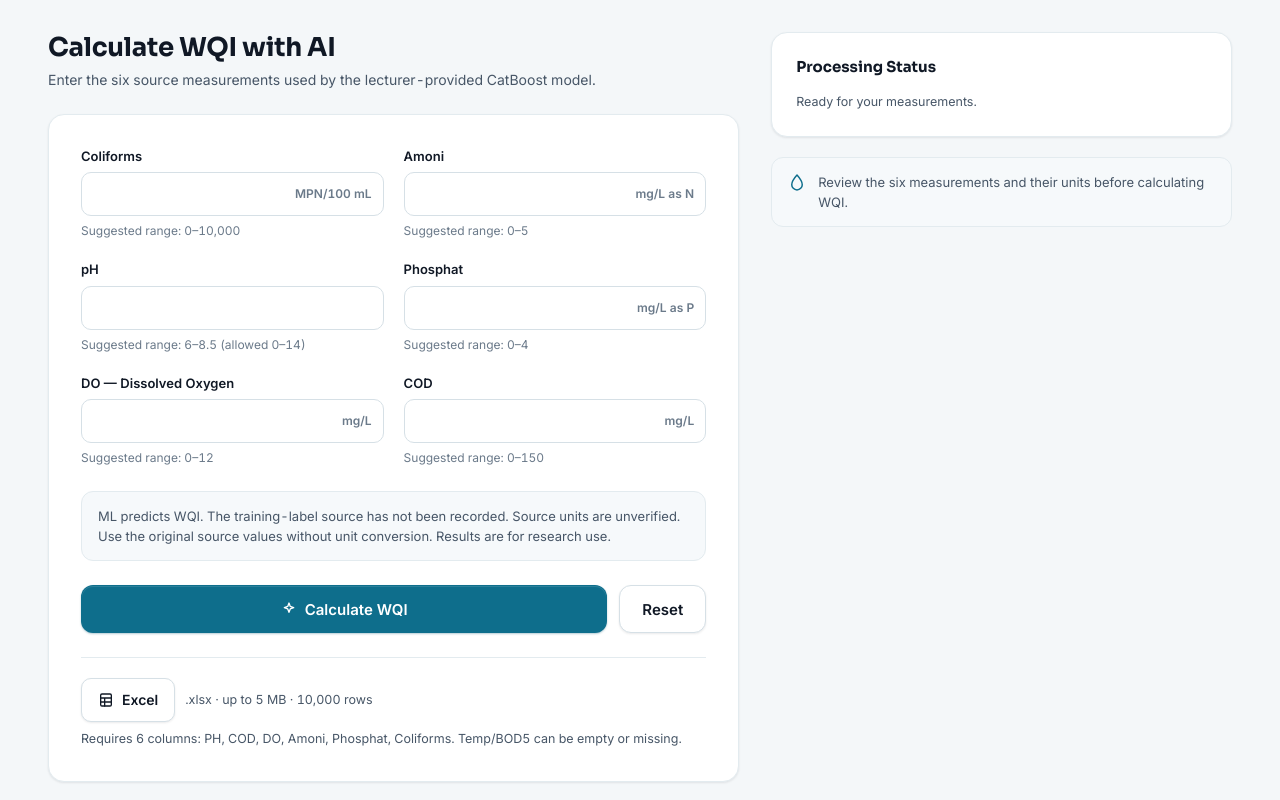
prediction screens › maps structured model-domain errors to a field and preserves the entered measurement
Expected: the button "Calculate WQI" is enabled, [81,585,607,633]
Type "7" into the number field labelled "pH" at (232, 308), box [81,286,384,330]
Type "6" into the number field labelled "DO — Dissolved Oxygen" at (232, 421), box [81,399,384,443]
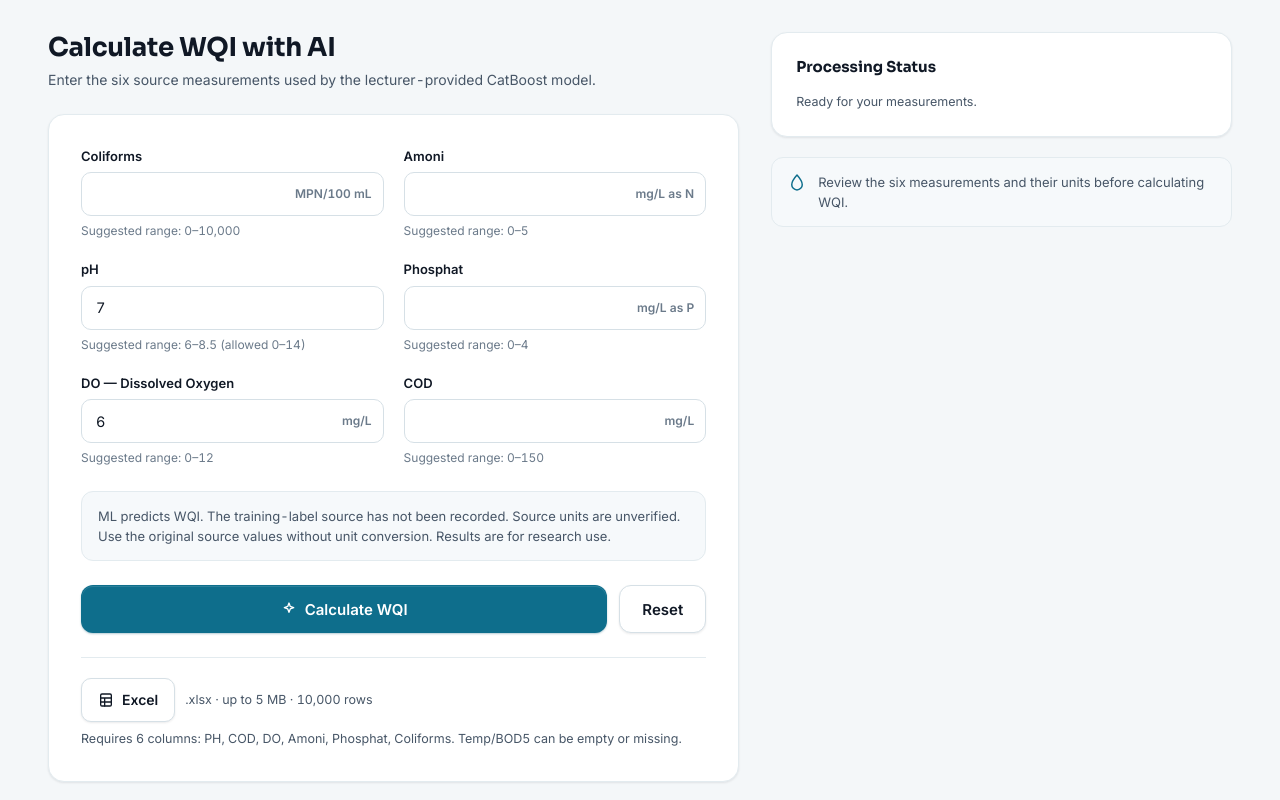
Type "4" into the number field labelled "COD" at (555, 421), box [404,399,706,443]
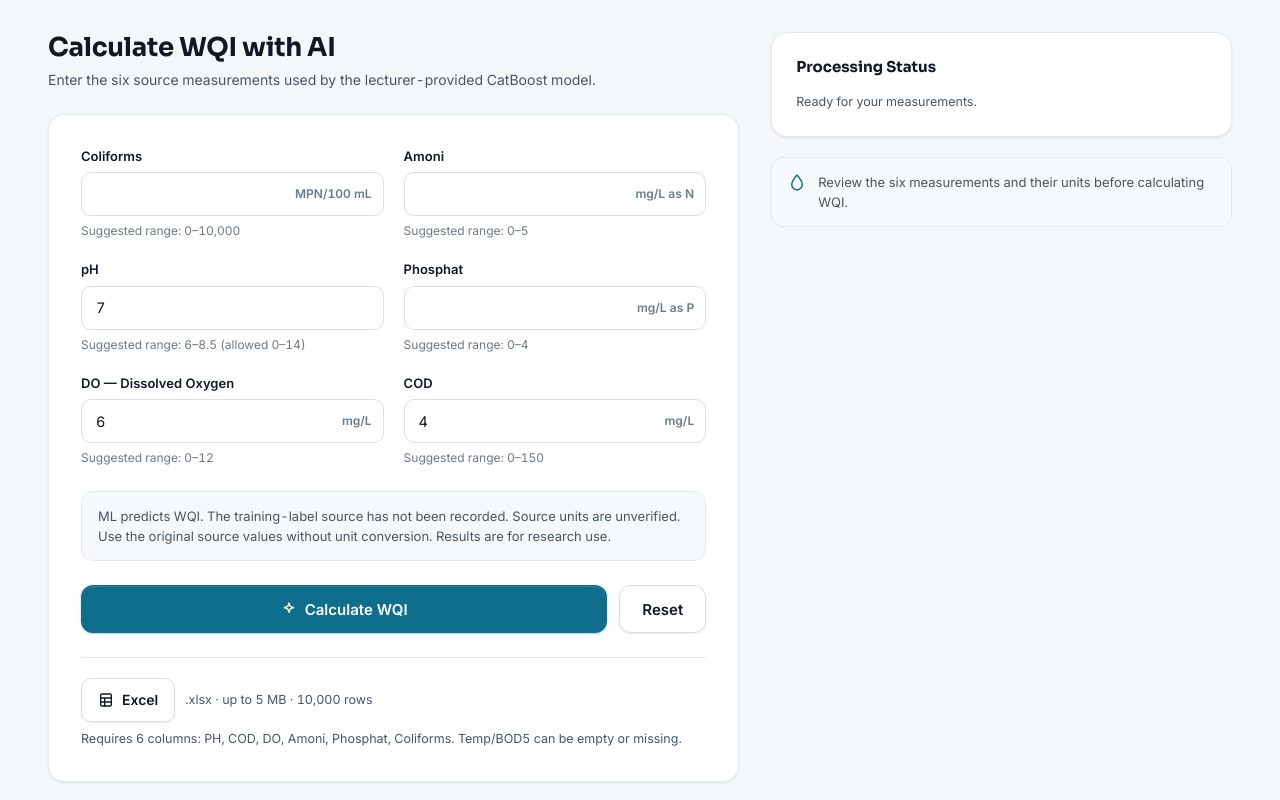
Type "2" into the number field labelled "Amoni" at (555, 194), box [404,172,706,216]
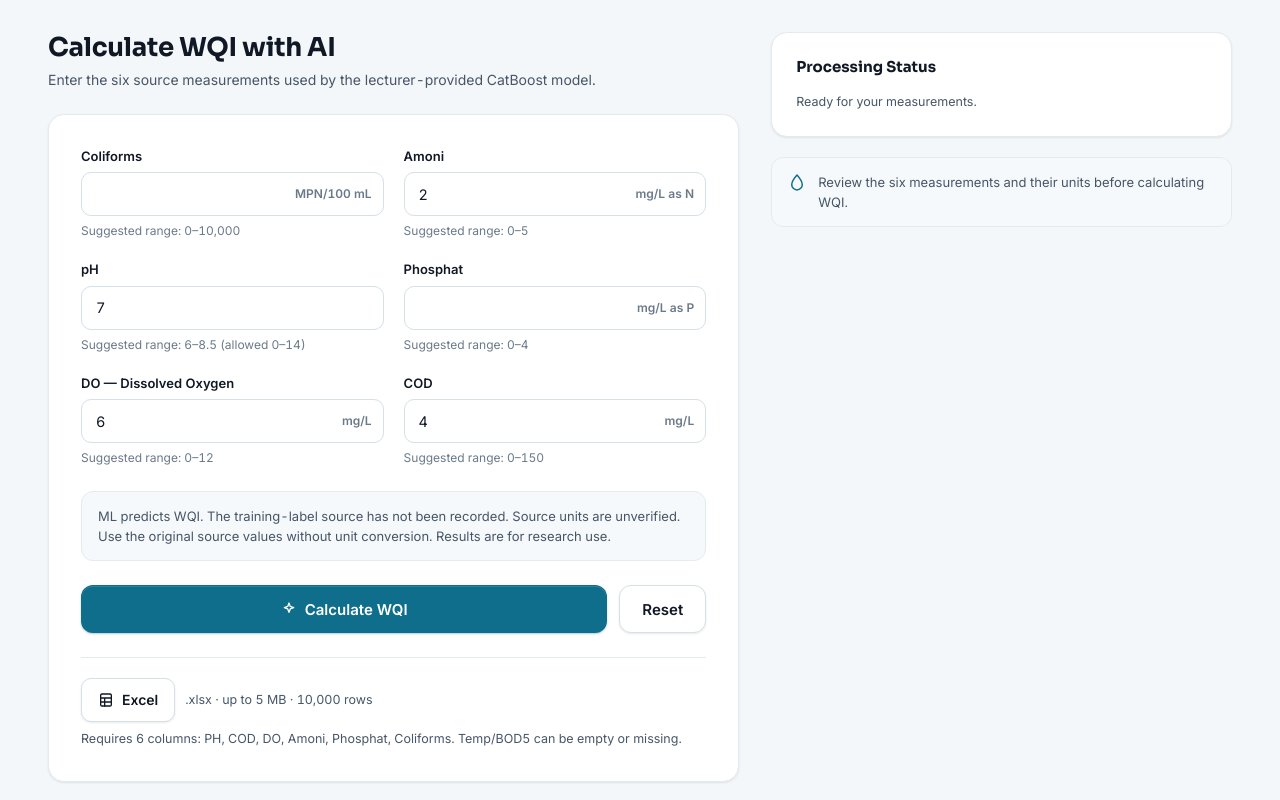
Type "0.2" into the number field labelled "Phosphat" at (555, 308), box [404,286,706,330]
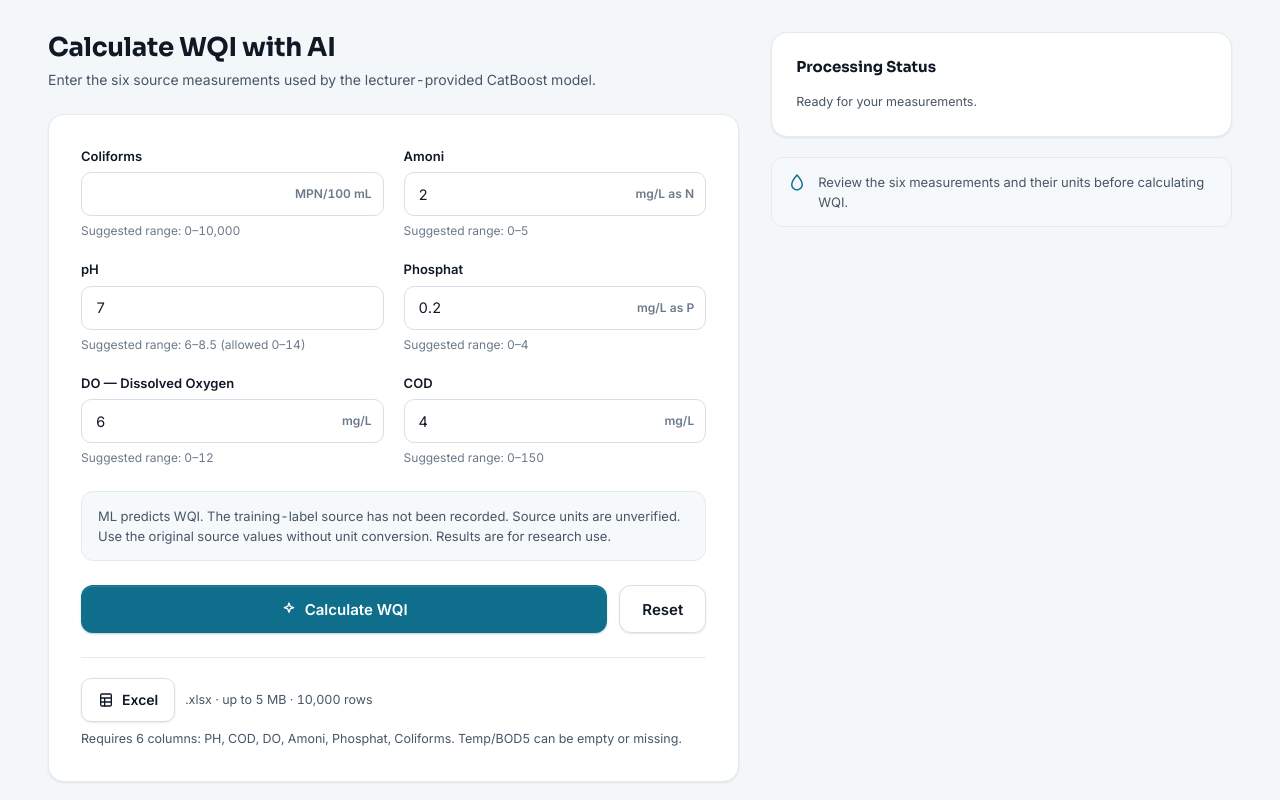
Type "500" into the number field labelled "Coliforms" at (232, 194), box [81,172,384,216]
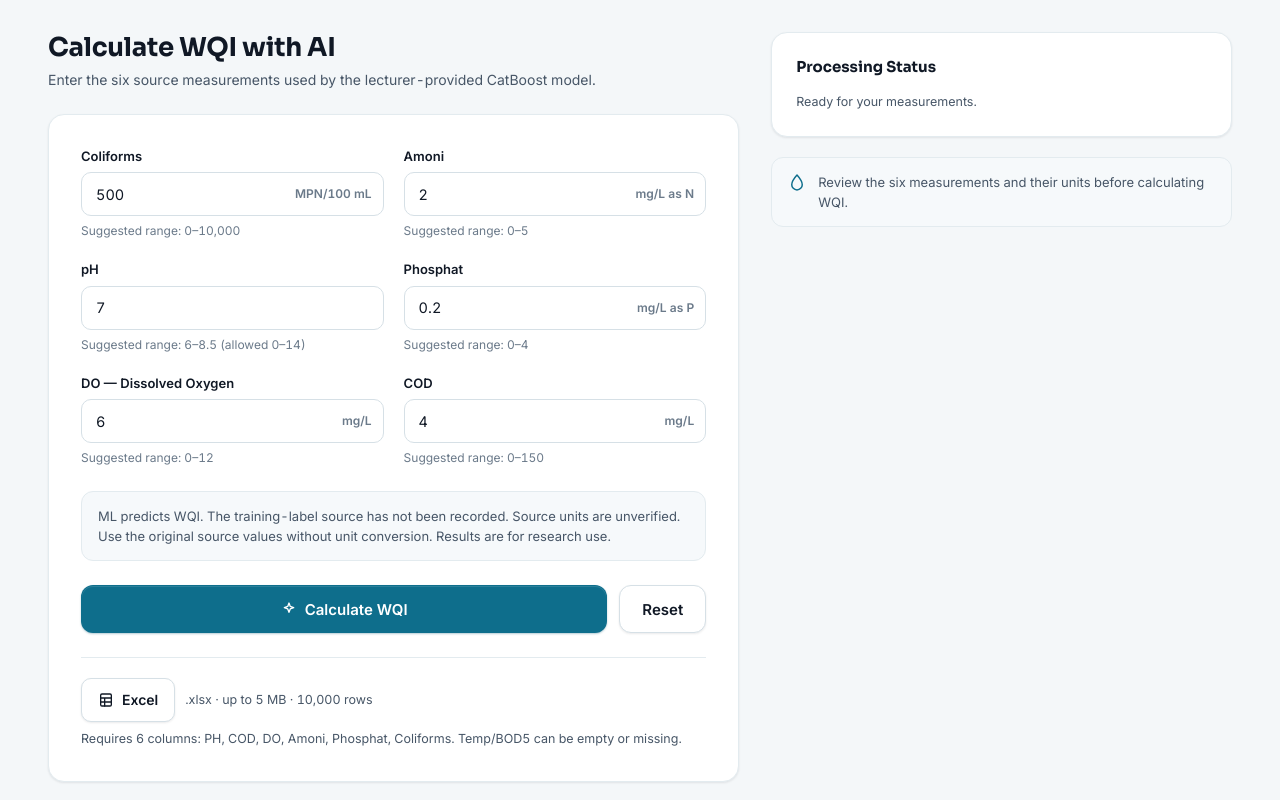
Click the button "Calculate WQI" at (344, 609), box [81,585,607,633]
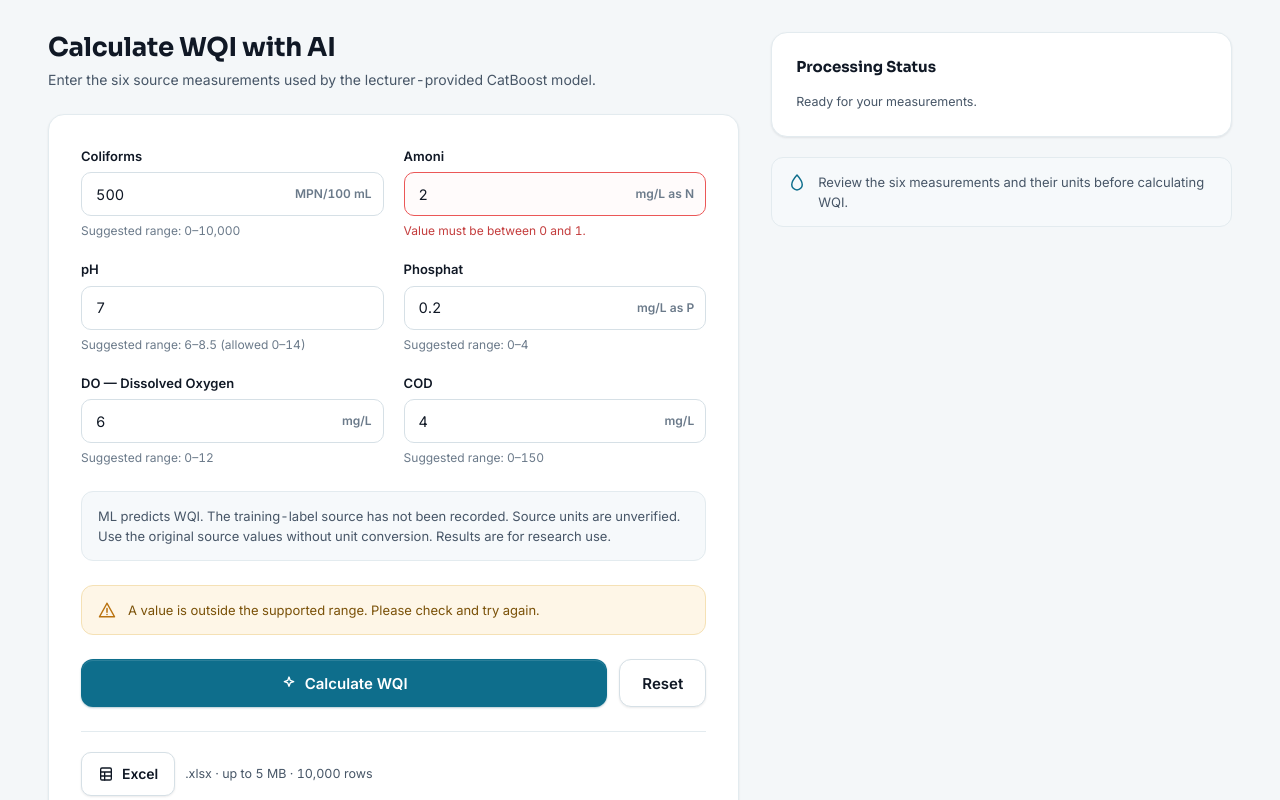
Expected: the text "Value must be between 0 and 1." is shown, [404,223,586,238]
